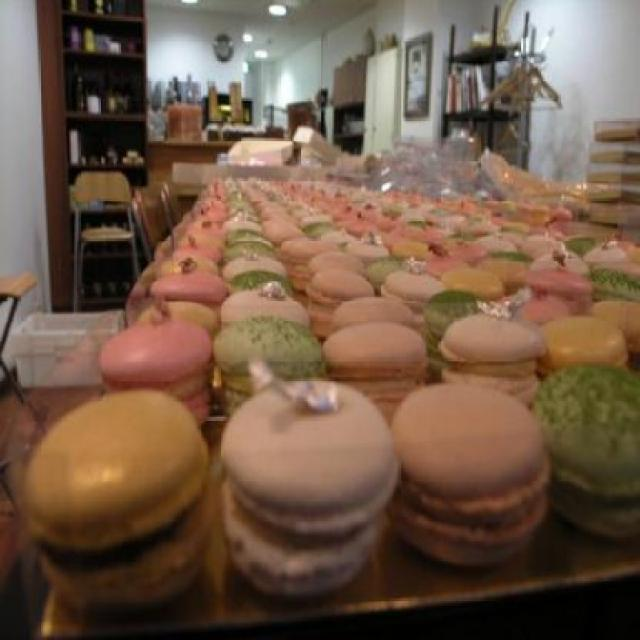Macaron: (28, 172, 640, 616)
